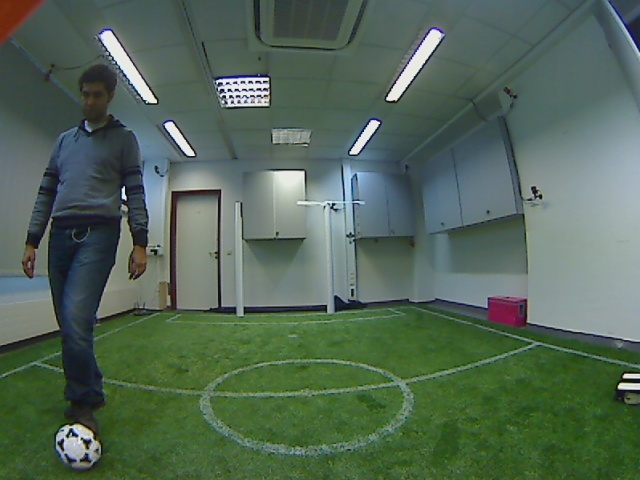ball: (47, 421, 107, 473)
